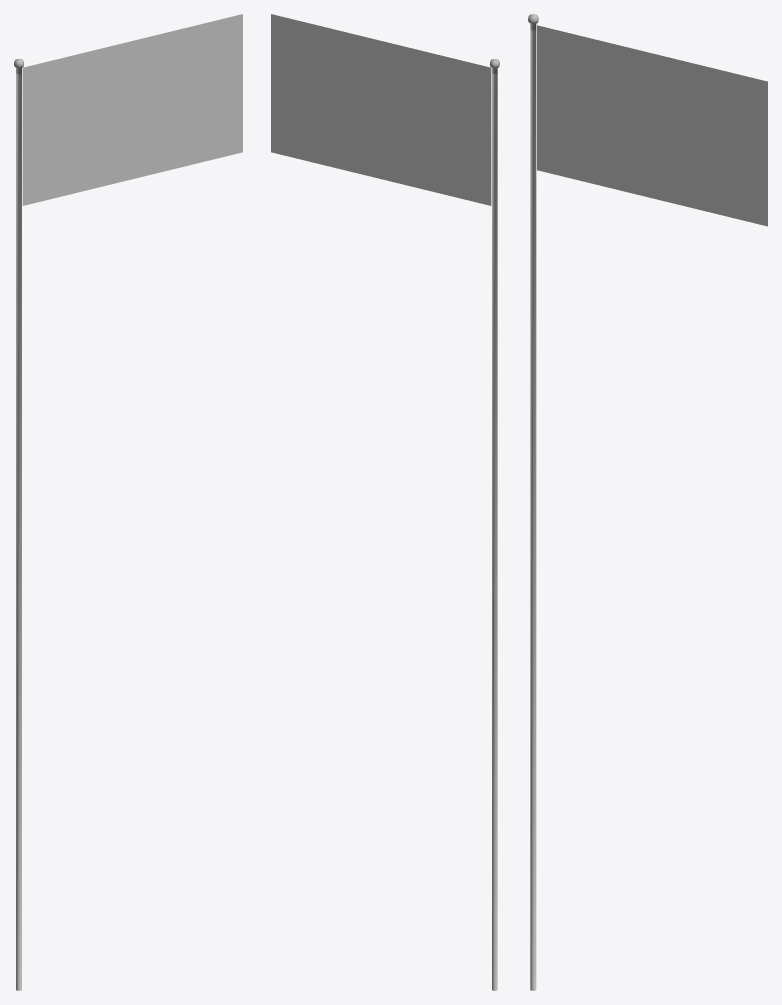
The model's file is Flag_Pole.FBX.
The picture shows the model from 3 angles, left to right: view 1: azimuth 30°, elevation 25°; view 2: azimuth 150°, elevation 25°; view 3: azimuth 330°, elevation 25°; orthographic projection. The views are drawn at different scales.
Parts seen in each view (by area): view 1: Flag, Cylinder001; view 2: Flag, Cylinder001; view 3: Flag, Cylinder001.
Boxes of the visible parts, bbox=[...] form: Flag: bbox=[22, 14, 242, 205]; Cylinder001: bbox=[14, 59, 23, 990]; Flag: bbox=[271, 14, 491, 205]; Cylinder001: bbox=[490, 59, 499, 990]; Flag: bbox=[537, 25, 767, 226]; Cylinder001: bbox=[528, 14, 538, 990].
Size of the model in its own units: 61.33 by 238 by 2.32.
